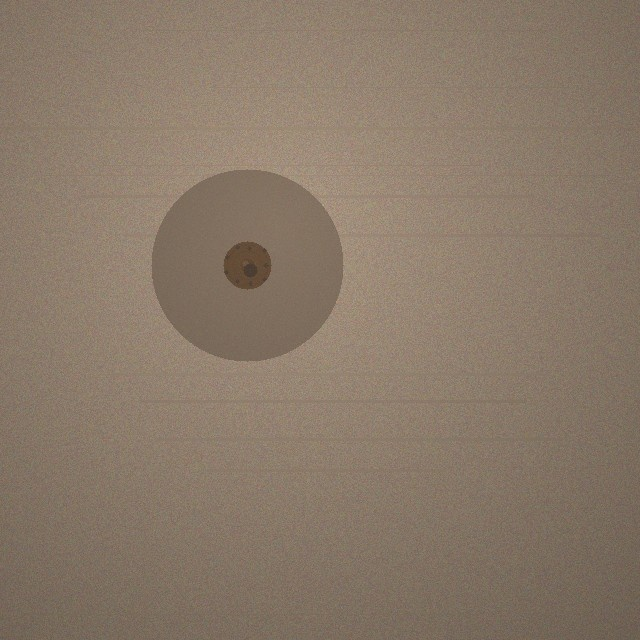cold_weld: (151, 169, 343, 361)
